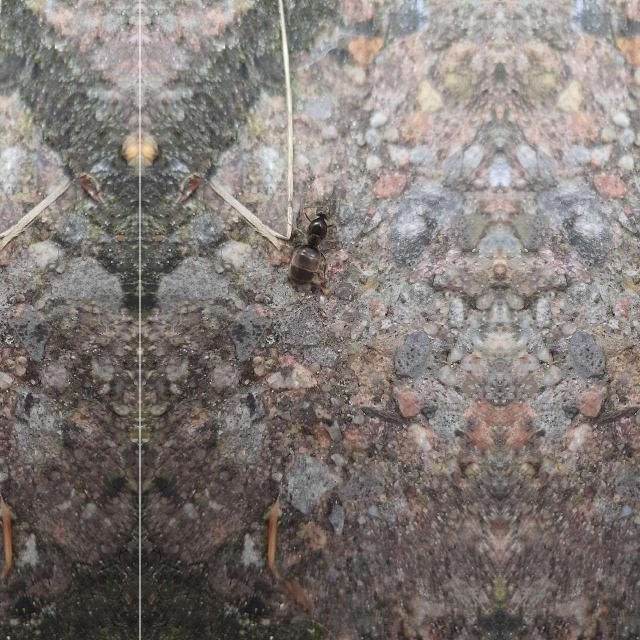Lasius: (266, 190, 338, 296)
